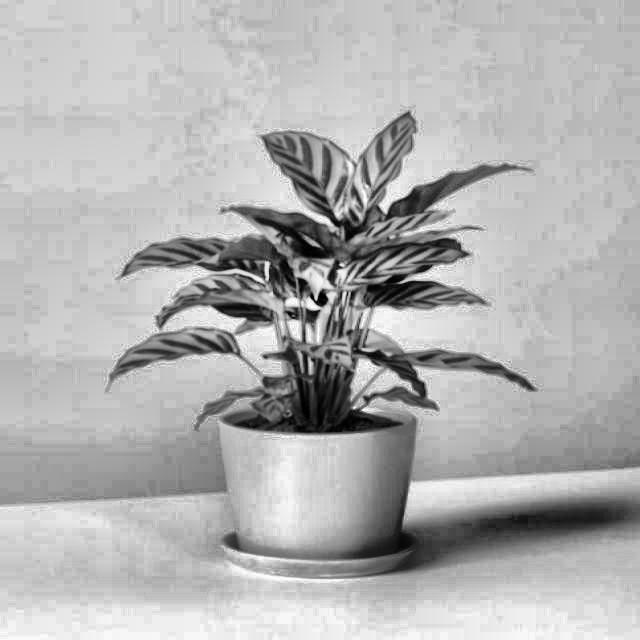plants: (172, 151, 488, 415)
